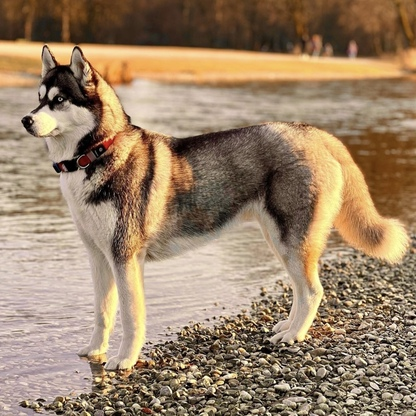husky: (15, 37, 413, 378)
